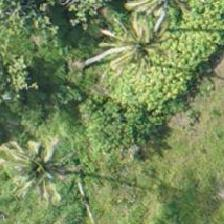coconut_tree: (97, 0, 187, 87), (0, 119, 86, 209)
